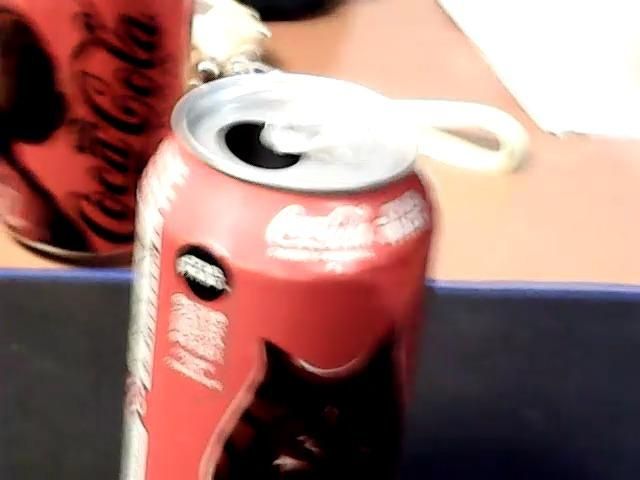coke: (124, 68, 505, 479), (1, 2, 187, 260)
